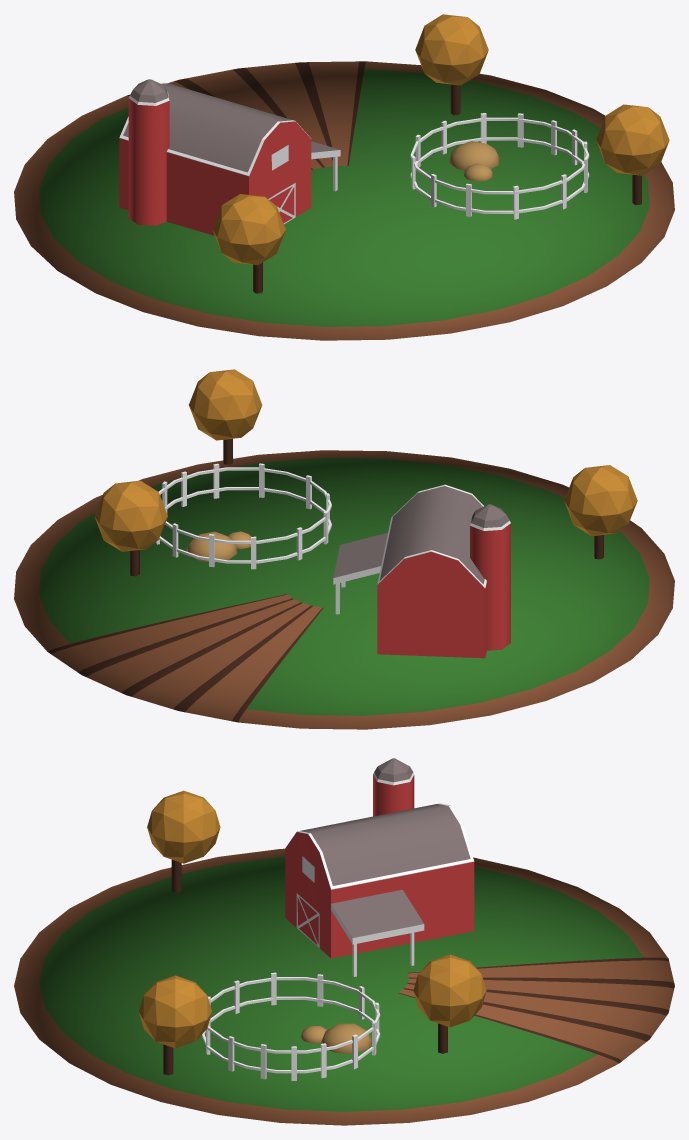
The model's file is Farm_1267.gltf.
3 renders of one model, top to bottom at view 1: azimuth 30°, elevation 25°; view 2: azimuth 150°, elevation 25°; view 3: azimuth 270°, elevation 25°, orthographic.
Visible parts, largest first — view 1: node-0; view 2: node-0; view 3: node-0.
Boxes of the visible parts, left/top/right/bottom form: node-0: left=14, top=14, right=674, bottom=340; node-0: left=14, top=369, right=674, bottom=729; node-0: left=14, top=758, right=674, bottom=1125.
Size of the model in its own units: 220 by 56.33 by 220.
